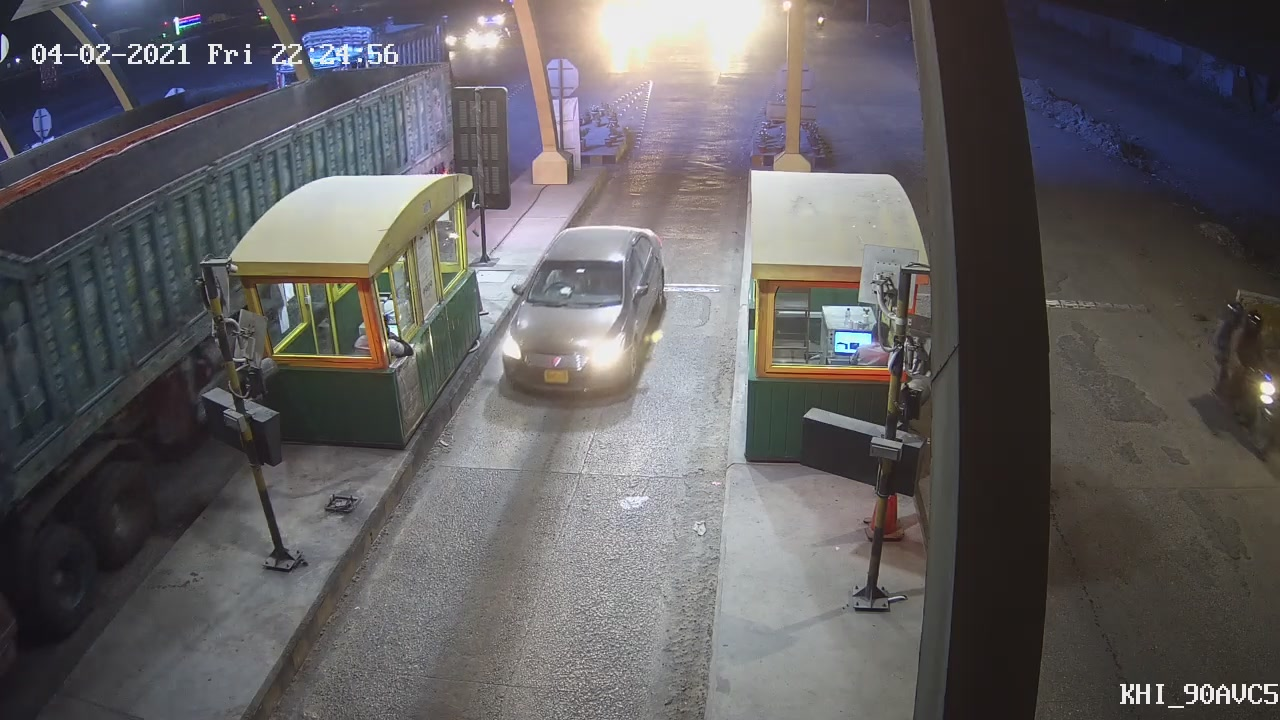F1: (486, 221, 666, 407)
